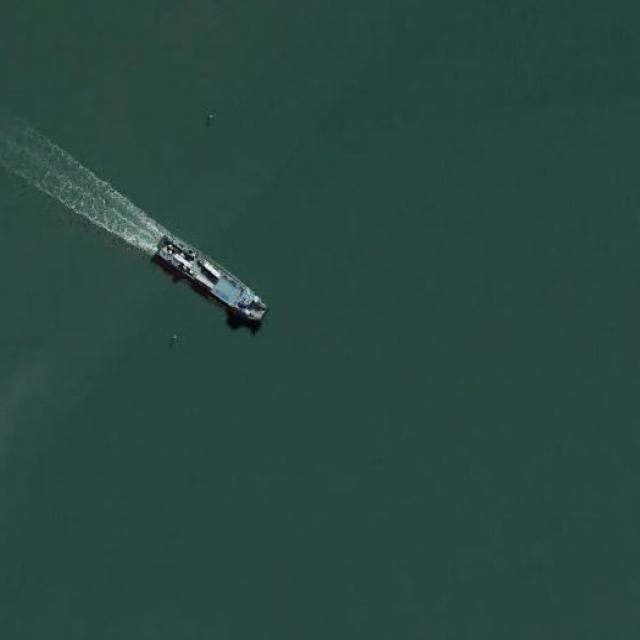ship: (154, 232, 270, 324)
